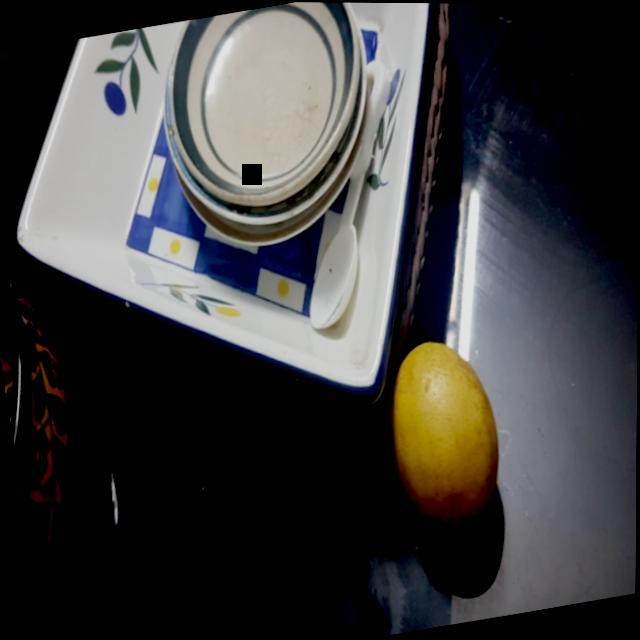lemon: (356, 321, 527, 542)
